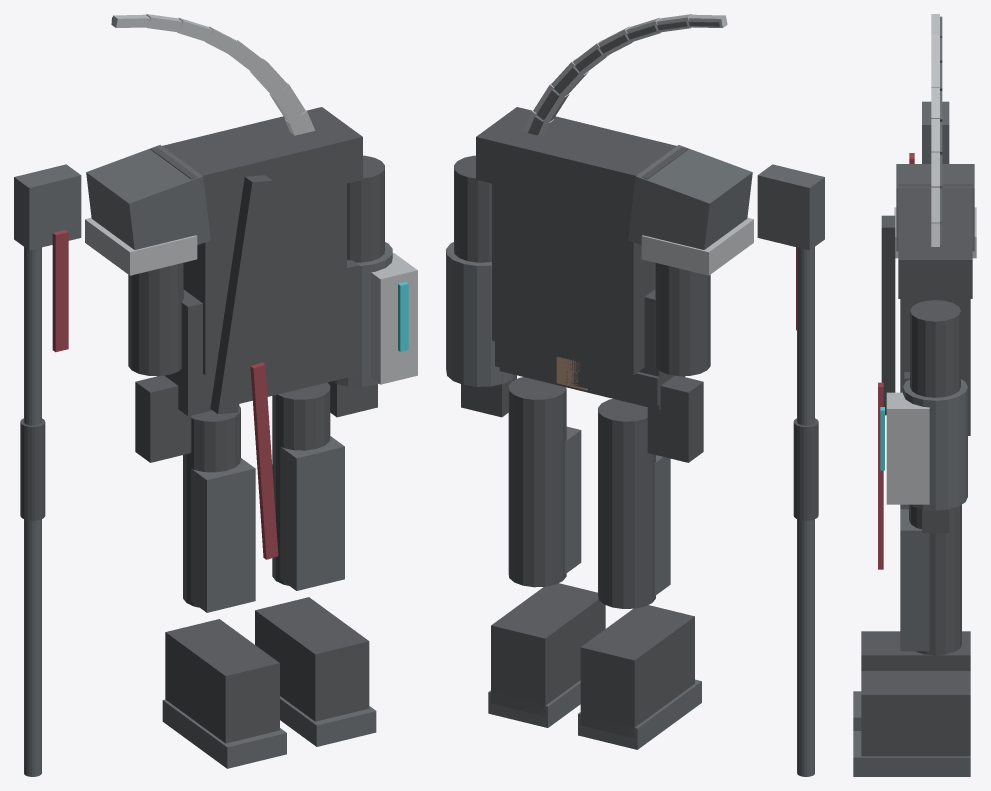
Rendered from ain_outfit_07_Maedeup_bonebound_v02.glb.
3 renders of one model, left to right at view 1: azimuth 30°, elevation 25°; view 2: azimuth 150°, elevation 25°; view 3: azimuth 270°, elevation 25°, orthographic. The views are drawn at different scales.
Visible parts, largest first — view 1: torso_shell, shoulder_yoke, boot_L, boot_R, left_shoulder_plate, shin_plate_R, shin_plate_L, short_jacket, scythe_shaft_6, asym_harness_7, sleeve_L, scythe_head_base_6 (+15 smaller); view 2: torso_shell, shoulder_yoke, leg_base_R, boot_L, leg_base_L, boot_R, left_shoulder_plate, scythe_shaft_6, right_gauntlet, sleeve_L, scythe_head_base_6, pouch_L (+10 smaller); view 3: boot_R, shoulder_yoke, right_gauntlet, sleeve_R, right_gauntlet_spine, leg_base_R, shin_plate_R, boot_L, asym_harness_7, boot_sole_R, torso_shell, left_shoulder_plate (+11 smaller).
Part boxes in pixels (x1,y1,x2,y2): torso_shell: (183,183,346,375); shoulder_yoke: (150,107,362,217); boot_L: (165,619,279,743); boot_R: (255,597,369,721); left_shoulder_plate: (86,145,210,249); shin_plate_R: (280,436,344,590); shin_plate_L: (191,458,255,612); short_jacket: (174,260,359,416); scythe_shaft_6: (24,247,41,776); asym_harness_7: (210,175,272,413); sleeve_L: (128,262,183,376); scythe_head_base_6: (14,164,81,250); torso_shell: (492,183,655,375); shoulder_yoke: (476,107,688,217); leg_base_R: (508,377,566,587); boot_L: (580,605,694,738); leg_base_L: (598,399,655,608); boot_R: (491,583,605,716); left_shoulder_plate: (628,145,752,249); scythe_shaft_6: (797,247,814,776); right_gauntlet: (446,242,515,386); sleeve_L: (655,263,710,376); scythe_head_base_6: (757,164,824,250); pouch_L: (647,375,703,462); boot_R: (861,671,970,756); shoulder_yoke: (898,184,972,298); right_gauntlet: (903,379,967,510); sleeve_R: (910,300,960,397); right_gauntlet_spine: (886,392,929,504); leg_base_R: (909,504,961,655); shin_plate_R: (900,509,929,651); boot_L: (861,631,970,670); asym_harness_7: (881,215,895,415); boot_sole_R: (853,731,970,776); torso_shell: (900,299,970,435); left_shoulder_plate: (896,164,974,251).
Bounding box in the file's own units: 0.99 × 1.89 × 0.315.
